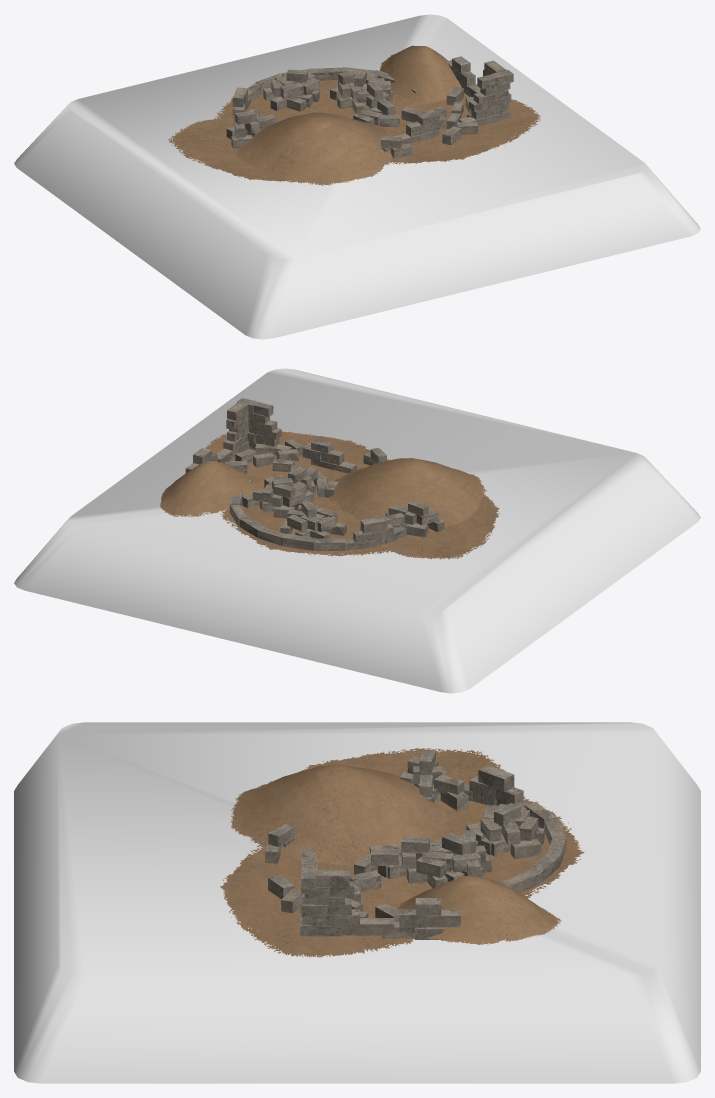
Rendered from Limestone Burner Construction Stage 1.fbx.
The picture shows the model from 3 angles, top to bottom: view 1: azimuth 30°, elevation 25°; view 2: azimuth 150°, elevation 25°; view 3: azimuth 270°, elevation 25°; orthographic projection. The views are drawn at different scales.
Parts seen in each view (by area): view 1: Limestone_Burner_Base_Construction_S1, Limestone_Burner_Construction_S1; view 2: Limestone_Burner_Base_Construction_S1, Limestone_Burner_Construction_S1; view 3: Limestone_Burner_Base_Construction_S1, Limestone_Burner_Construction_S1.
Part boxes in pixels (x1,y1,x2,y2): Limestone_Burner_Base_Construction_S1: (14,14,700,339); Limestone_Burner_Construction_S1: (168,45,540,185); Limestone_Burner_Base_Construction_S1: (14,368,700,693); Limestone_Burner_Construction_S1: (160,398,499,559); Limestone_Burner_Base_Construction_S1: (14,722,700,1083); Limestone_Burner_Construction_S1: (220,748,584,957).
Bounding box in the file's own units: 796 × 177 × 758.
